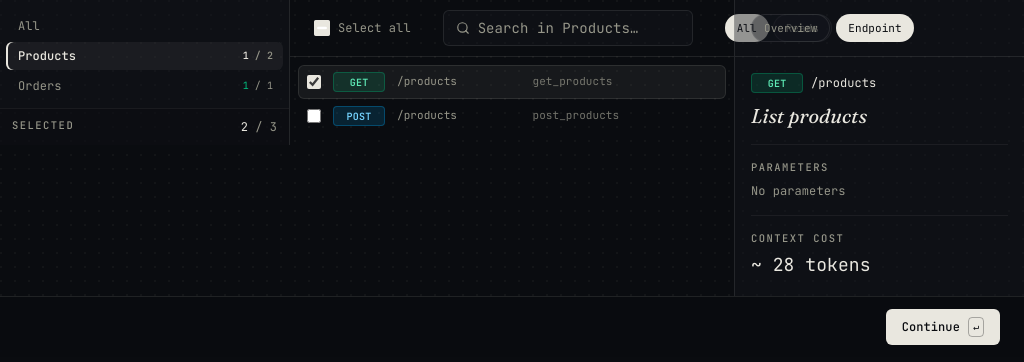
Scenario: <SelectionScreen> 3-col layout (phase 04bis) › shows an empty state inside the centre list when search has no match
Type "xxx-nope" into the search field at (579,28), box [478, 11, 680, 45]
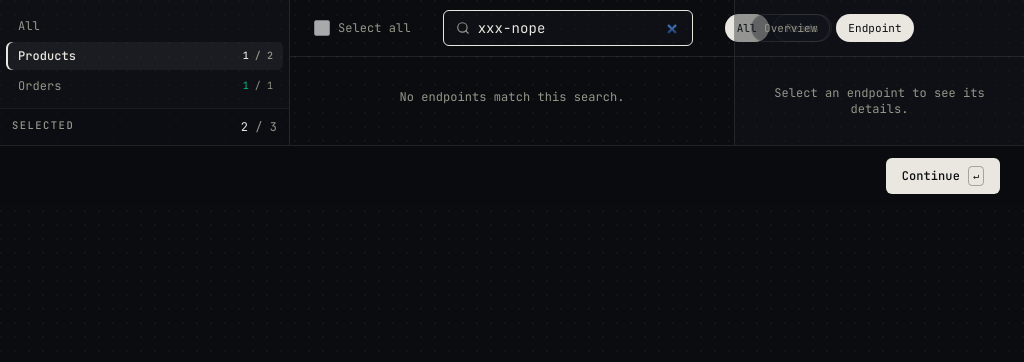
expect the text "No endpoints match this search." is shown: met, box [399, 89, 625, 105]
